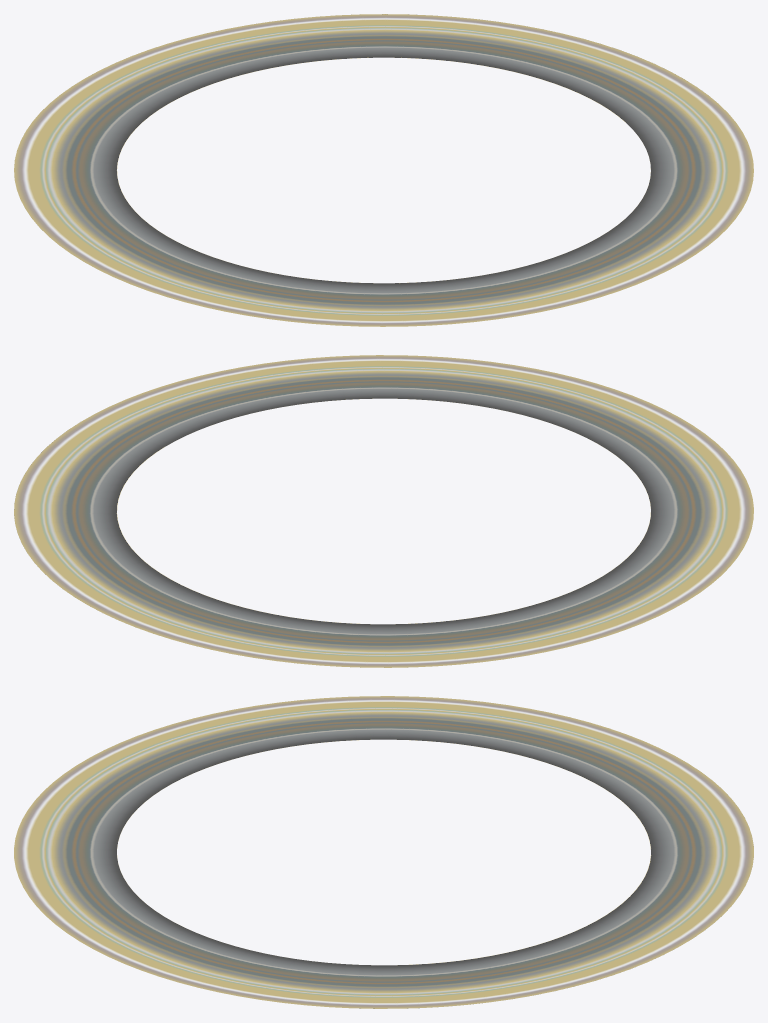
Rendered from SaturnRing.fbx.
3 views of the same model, one above another, from view 1: azimuth 30°, elevation 25°; view 2: azimuth 150°, elevation 25°; view 3: azimuth 270°, elevation 25° (orthographic).
Visible parts, largest first — view 1: Circle; view 2: Circle; view 3: Circle.
Part boxes in pixels (bbox=[...]): Circle: bbox=[14, 14, 753, 326]; Circle: bbox=[14, 355, 753, 667]; Circle: bbox=[14, 696, 753, 1008].
Bounding box in the file's own units: 940 × 0.000153 × 940.
